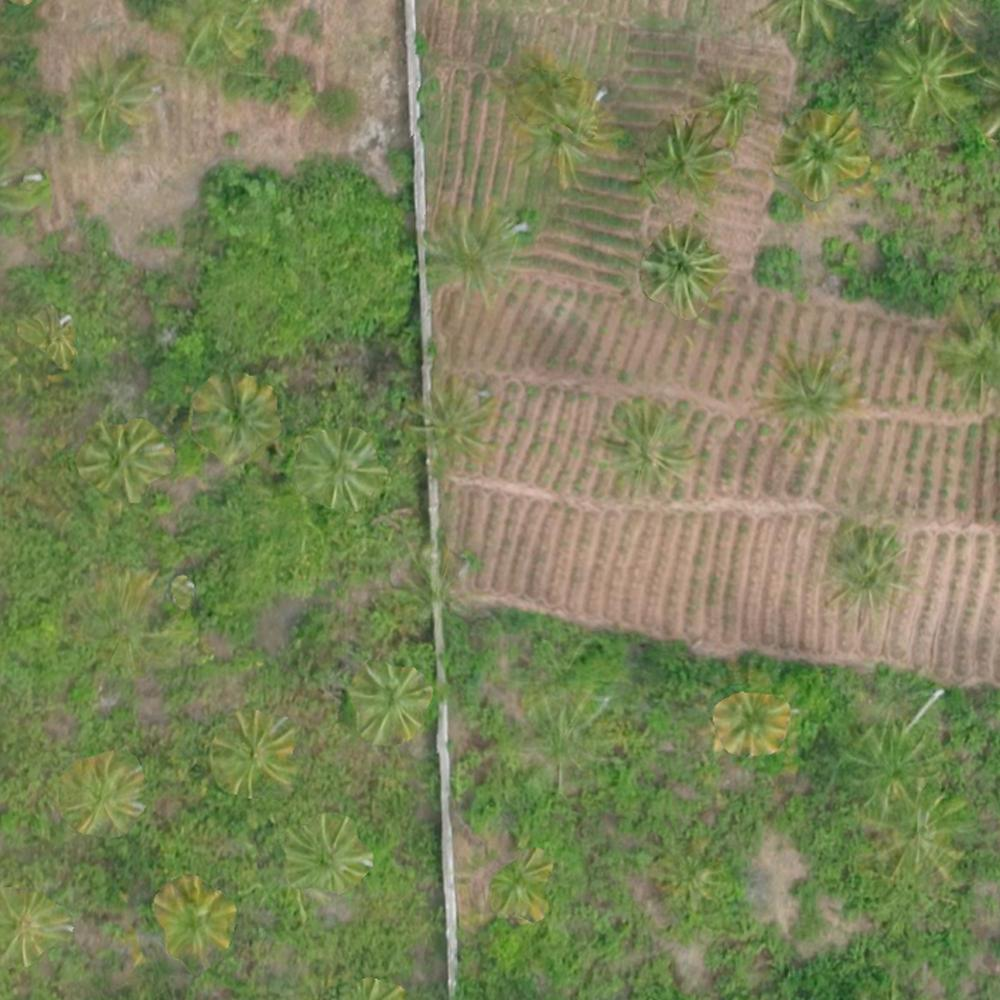Palm: (874, 31, 976, 125), (594, 399, 695, 488), (511, 96, 601, 183), (774, 109, 866, 194), (820, 522, 909, 609), (205, 710, 294, 795), (295, 426, 388, 506), (407, 383, 496, 466), (766, 355, 847, 440), (643, 117, 729, 193), (641, 228, 724, 306), (66, 62, 148, 140), (80, 424, 164, 500), (188, 377, 267, 457), (154, 881, 237, 956), (347, 662, 429, 735), (286, 822, 367, 892), (1, 885, 68, 964), (66, 759, 140, 829), (699, 65, 767, 139), (713, 692, 788, 756), (485, 858, 553, 926)
